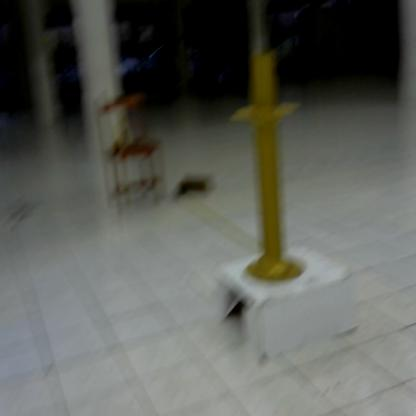pole: (232, 52, 311, 285)
